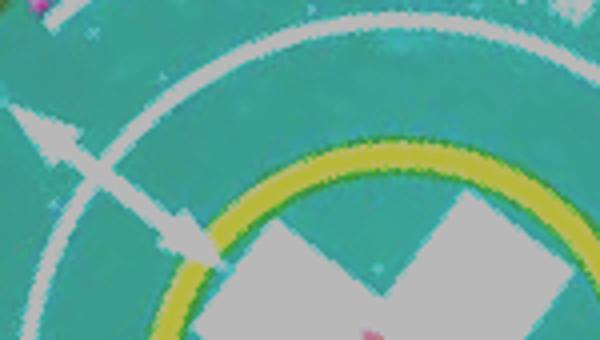Apron: (138, 125, 600, 340)
